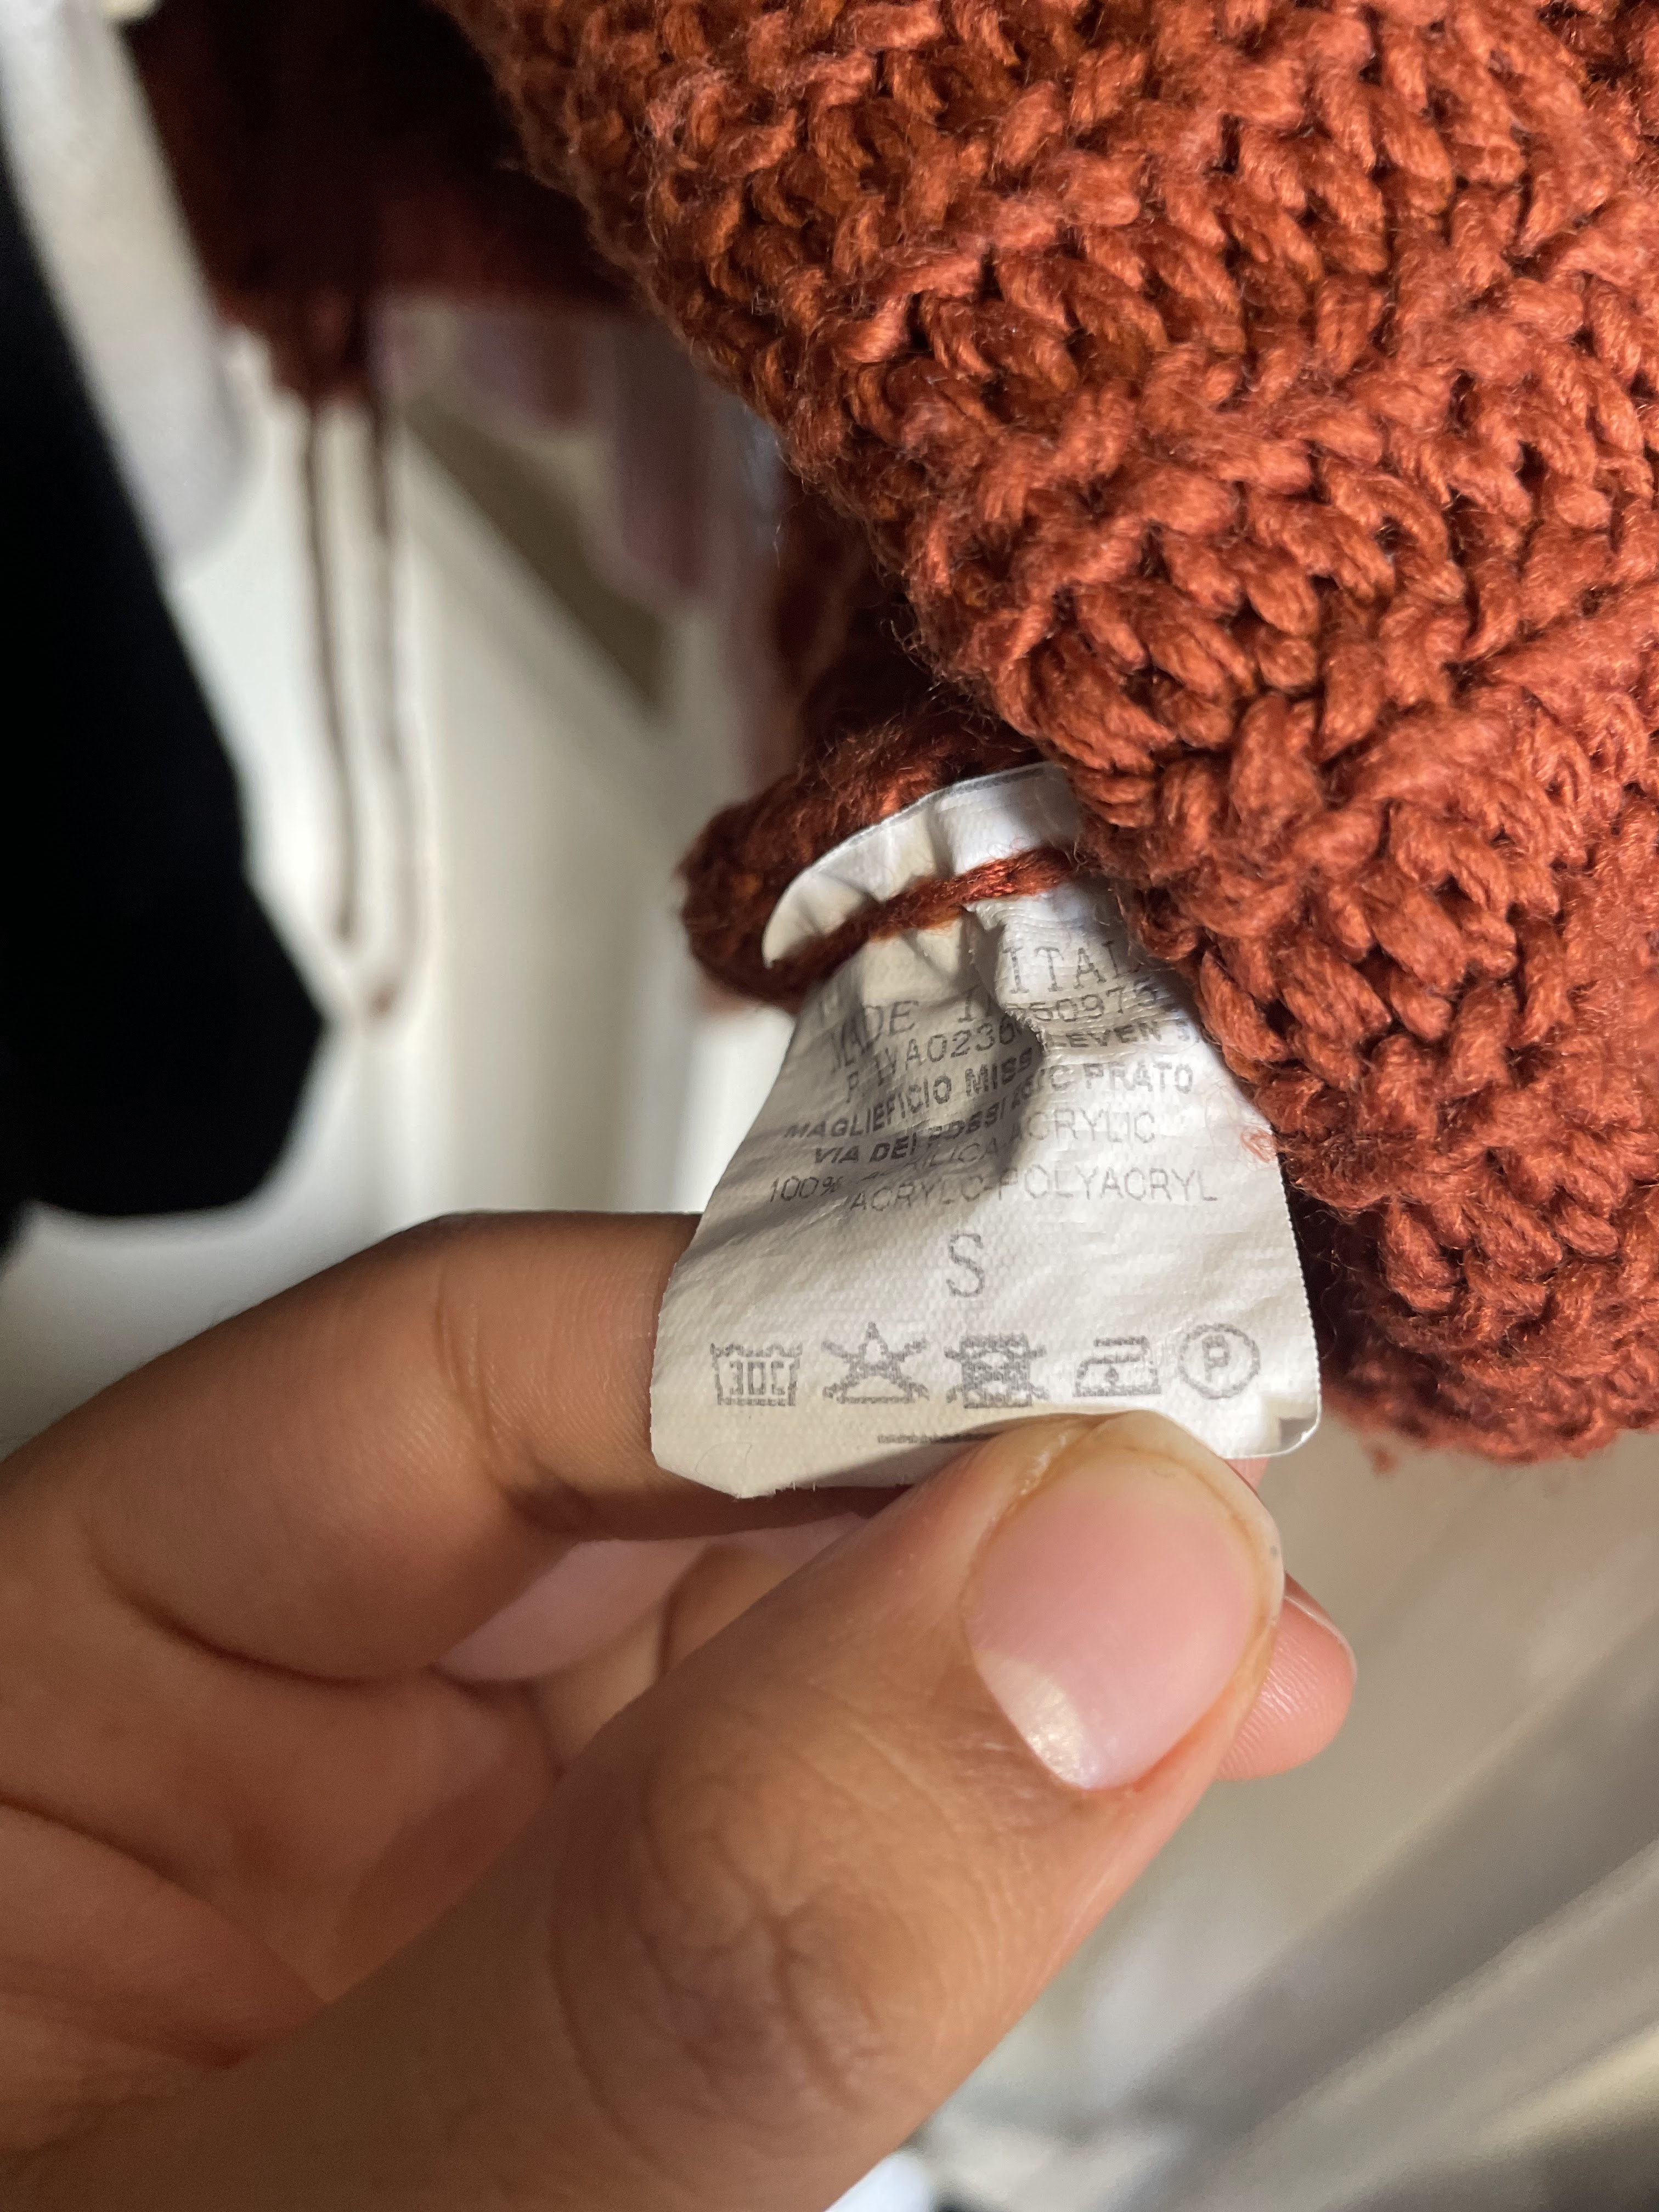do not bleach: (830, 1296, 929, 1414)
do not tumble dry: (945, 1331, 1070, 1439)
dry clean: (1185, 1308, 1270, 1421)
iron low temp: (1051, 1308, 1171, 1430)
wash at or below 30: (676, 1306, 819, 1420)
